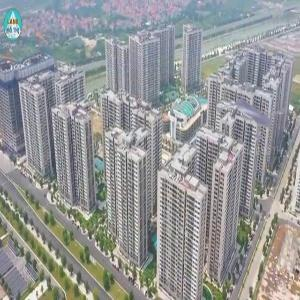drone: (204, 70, 296, 162)
